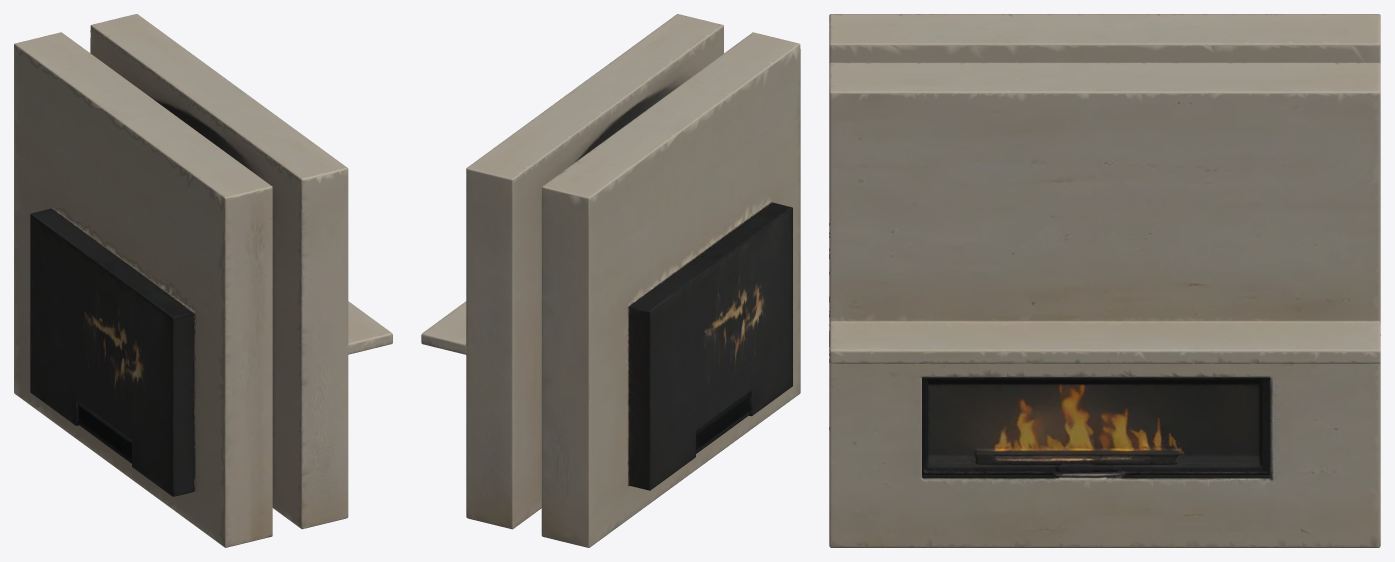
Rendered from cheminee.glb.
3 renders of one model, left to right at view 1: azimuth 30°, elevation 25°; view 2: azimuth 150°, elevation 25°; view 3: azimuth 270°, elevation 25°, orthographic. The views are drawn at different scales.
Parts seen in each view (by area): view 1: tripo_node_1487409f-f0a3-461a-9cdd-5b882e60a3df; view 2: tripo_node_1487409f-f0a3-461a-9cdd-5b882e60a3df; view 3: tripo_node_1487409f-f0a3-461a-9cdd-5b882e60a3df.
Part boxes in pixels (x1,y1,x2,y2): tripo_node_1487409f-f0a3-461a-9cdd-5b882e60a3df: (14, 14, 392, 547); tripo_node_1487409f-f0a3-461a-9cdd-5b882e60a3df: (421, 14, 800, 547); tripo_node_1487409f-f0a3-461a-9cdd-5b882e60a3df: (829, 14, 1380, 547).
Bounding box in the file's own units: 0.5208 × 0.9131 × 1.
1 material, 1 textured.
